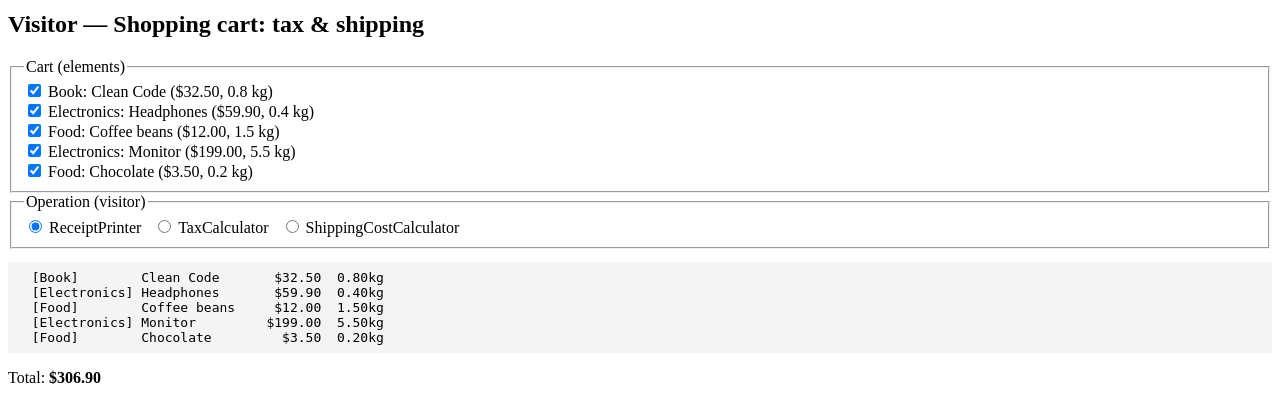
Test: <VisitorDemo /> › runs a different operation over the same cart when the user picks another visitor
The width and height of the screenshot is (1280, 403).
Check: the text "$306.90" is shown, box [49,369,101,386]
Click the radio button labelled "TaxCalculator".
click(165, 226)  # box [158,220,171,233]
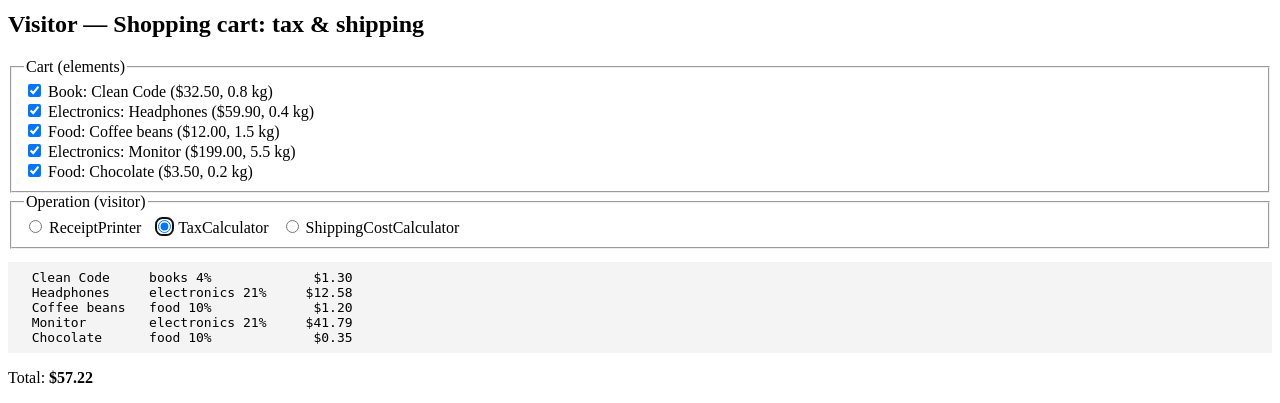
Check: the text "$57.22" is shown, box [49,369,93,386]
Click the radio button labelled "ShippingCostCalculator".
click(292, 226)  # box [286,220,298,233]
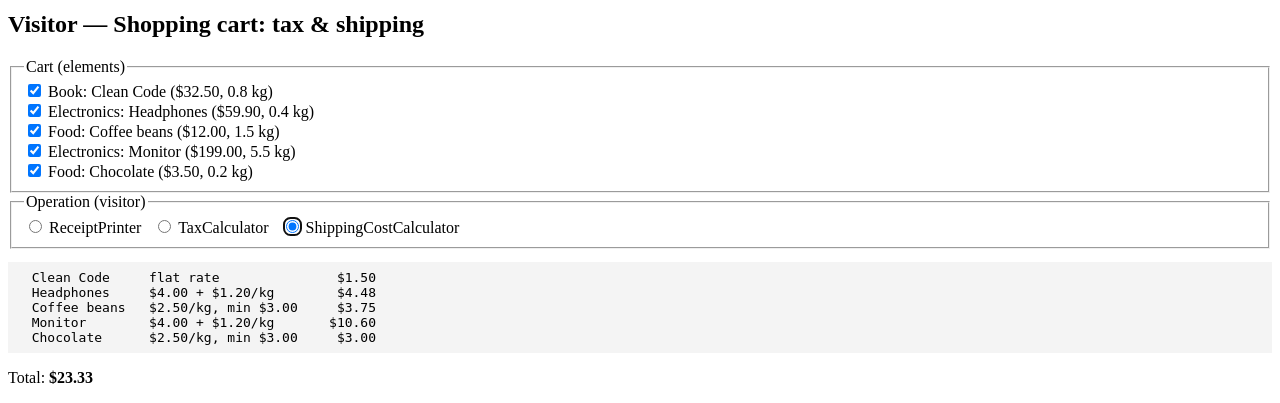
Check: the text "$23.33" is shown, box [49,369,93,386]
